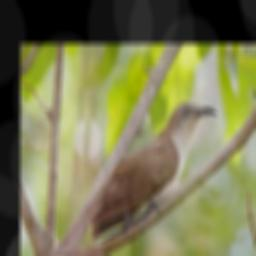Cuckoo: (90, 101, 220, 243)
